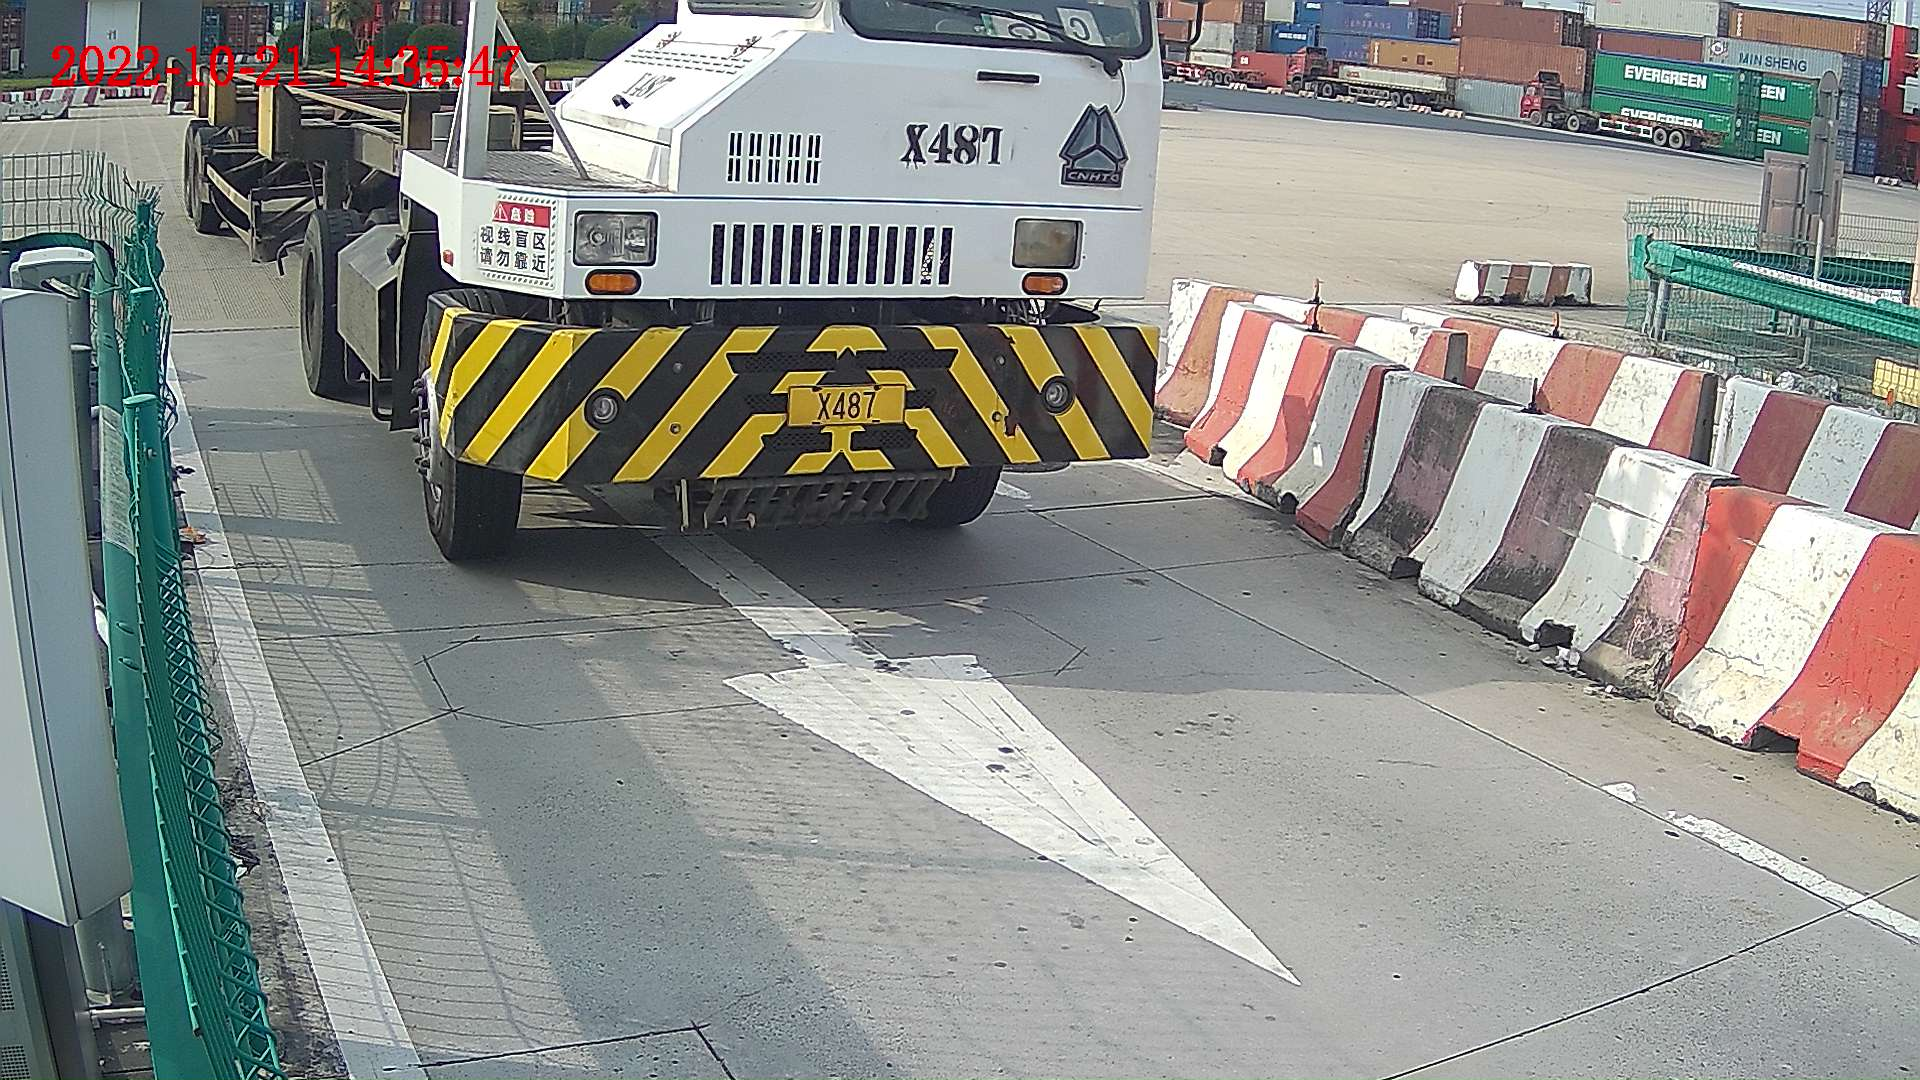head: (397, 1, 1154, 565)
plate: (777, 377, 904, 430)
